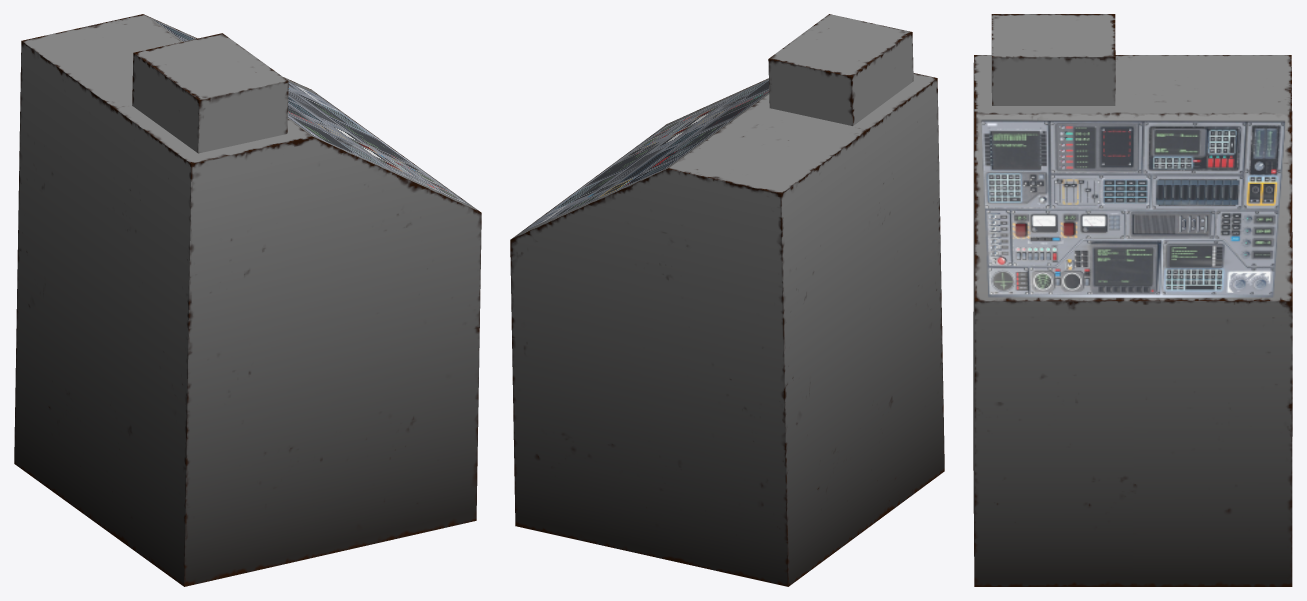
File: ControlPanel.fbx
The picture shows the model from 3 angles, left to right: view 1: azimuth 30°, elevation 25°; view 2: azimuth 150°, elevation 25°; view 3: azimuth 270°, elevation 25°; orthographic projection. The views are drawn at different scales.
Visible parts, largest first — view 1: Cube.014; view 2: Cube.014; view 3: Cube.014.
Boxes of the visible parts, box(x1,y1,x2,y2) form: Cube.014: box(14, 14, 481, 586); Cube.014: box(510, 14, 944, 586); Cube.014: box(973, 14, 1292, 586).
Bounding box in the file's own units: 731 × 1118 × 719.
1 material, 1 textured.
